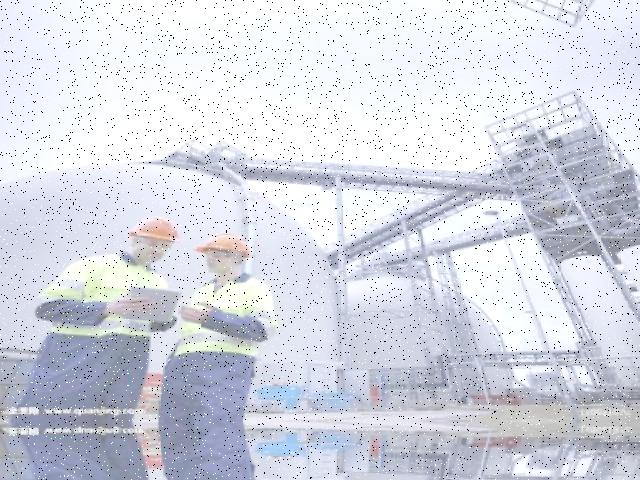Helmet: (186, 226, 252, 264), (120, 213, 182, 247)
